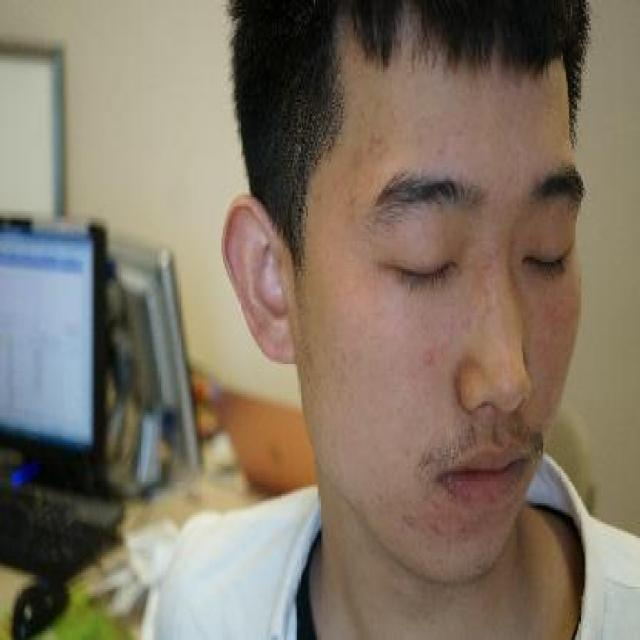dark spot: (366, 126, 389, 156), (349, 146, 368, 179)
papules: (398, 505, 420, 538), (417, 346, 440, 374), (426, 517, 446, 543), (346, 186, 362, 204)
